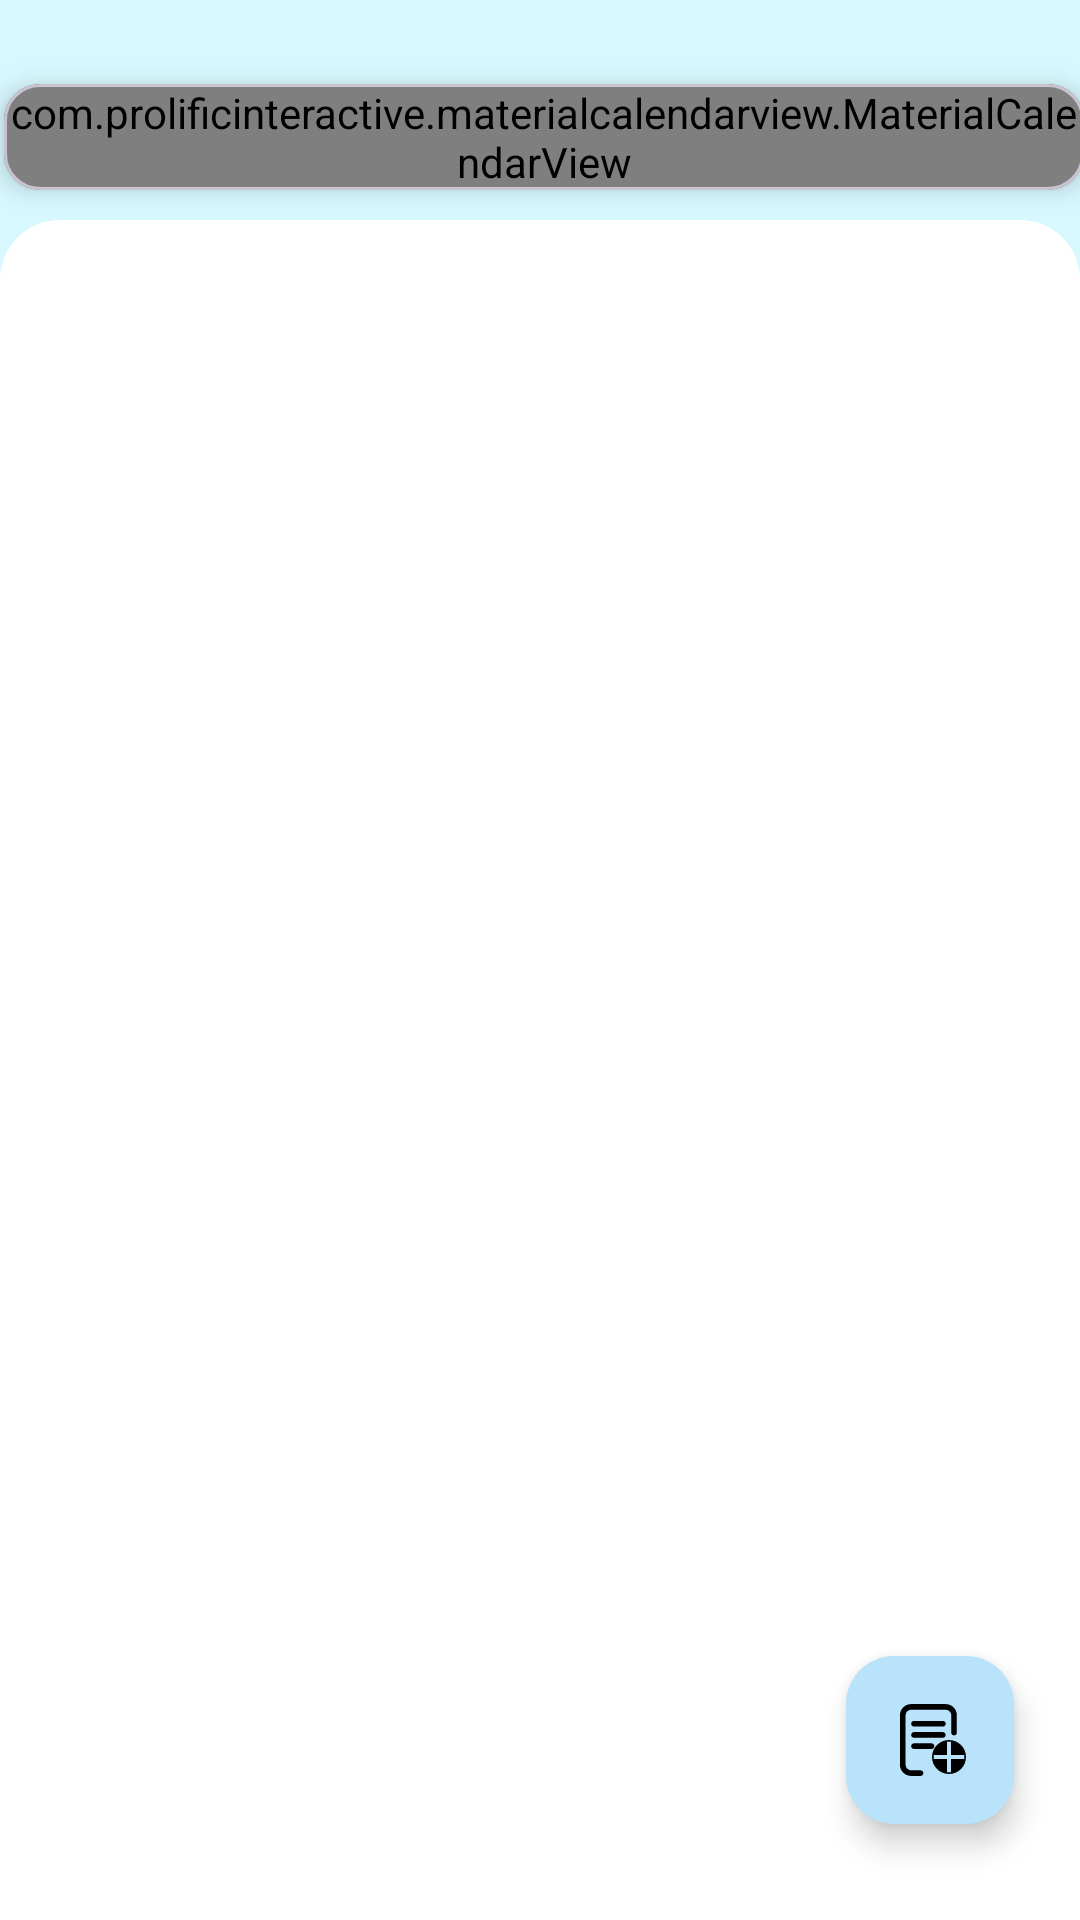

Named icons in this screenshot (1080 × 1920) and their bounding boxes, [left=x1, top=y1, right=x2, bottom=y2]:
addnote: [left=846, top=1656, right=1014, bottom=1824]
